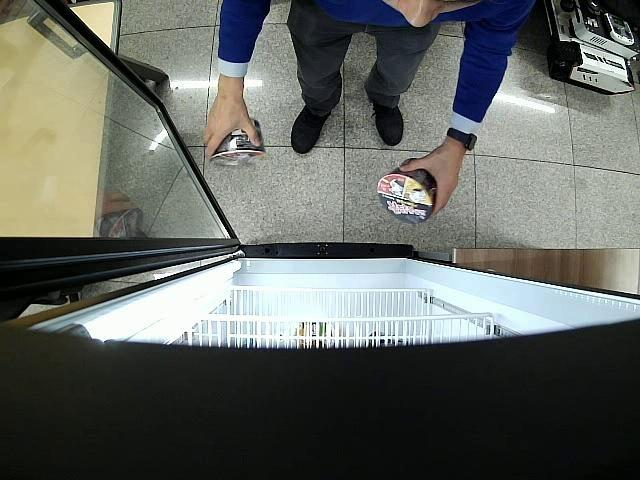07_buldak_L: (377, 157, 436, 223), (212, 118, 265, 168)
